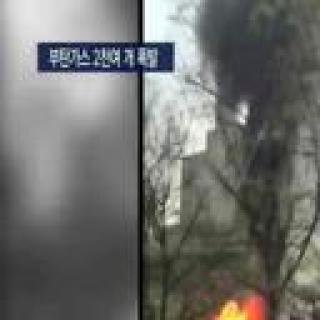fire: (192, 292, 271, 320)
